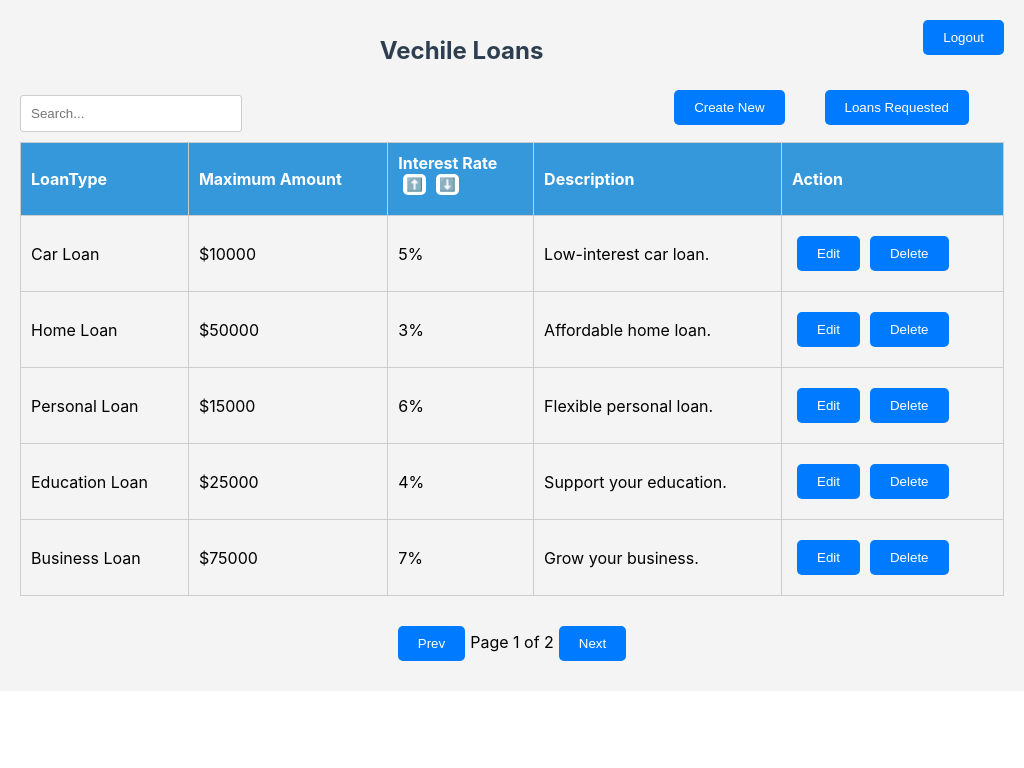
Test: Adminhomepage › admin_home_page_filters_loans_based_on_search_input
# Type 'Car' into the search input
Type "Car" into the field with placeholder "Search..." at (131, 114), box [20,95,242,132]
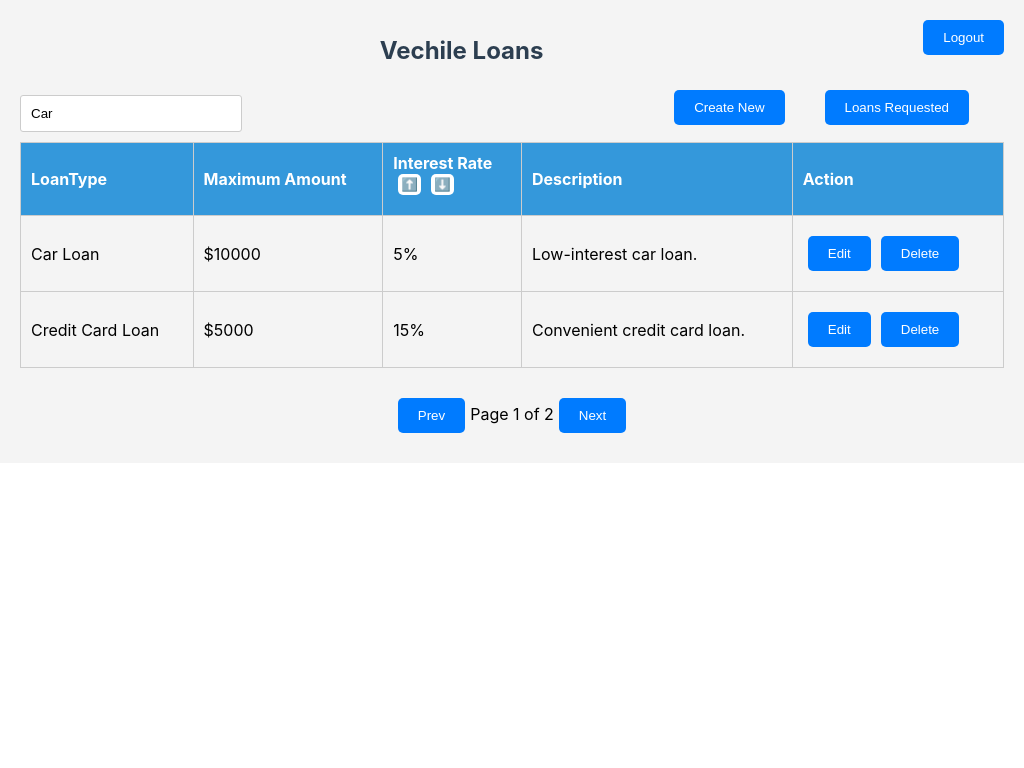
Expected: the text "Car Loan" is shown, [20,216,193,292]
Expected: the text "Home Loan" is gone
